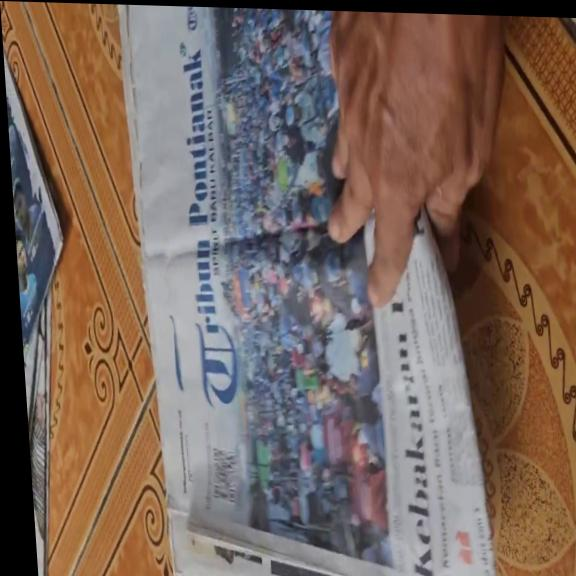Kertas: (117, 8, 493, 576)
